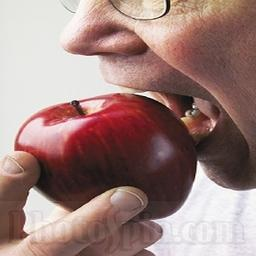apple: (12, 92, 199, 225)
